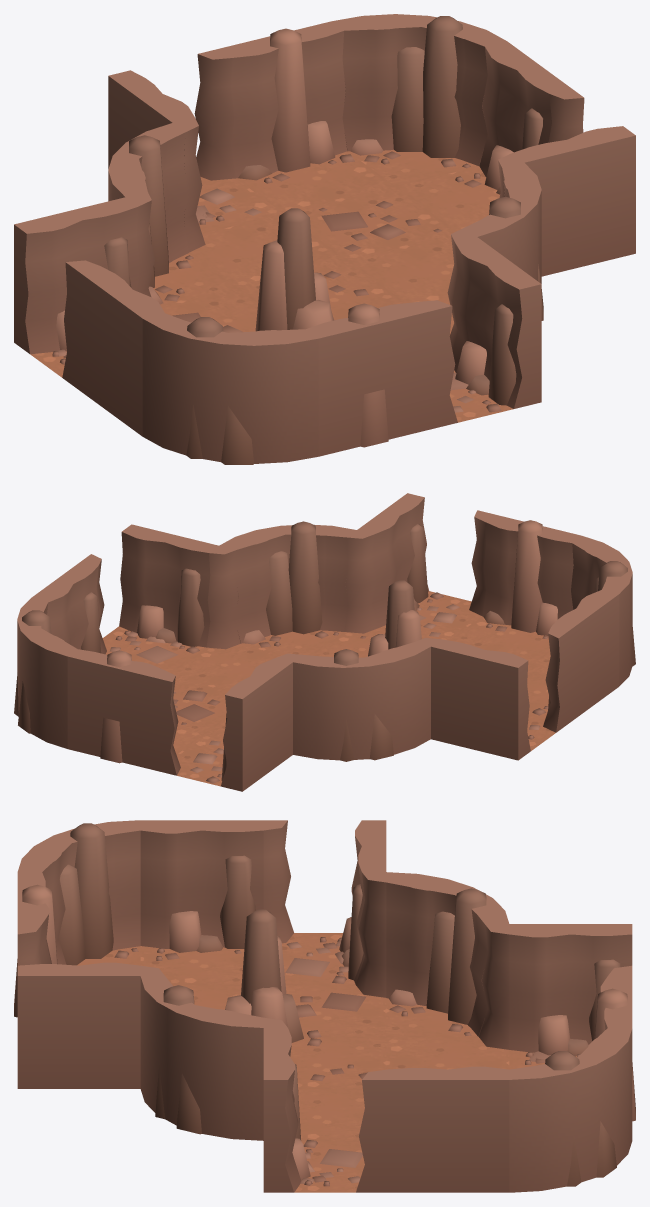
File: room-large-variation.obj
3 renders of one model, top to bottom at view 1: azimuth 30°, elevation 25°; view 2: azimuth 150°, elevation 25°; view 3: azimuth 270°, elevation 25°, orthographic. The views are drawn at different scales.
Visible parts, largest first — view 1: room-large-variation; view 2: room-large-variation; view 3: room-large-variation.
Part boxes in pixels (bbox=[...]): room-large-variation: bbox=[14, 14, 635, 464]; room-large-variation: bbox=[14, 493, 635, 791]; room-large-variation: bbox=[14, 820, 635, 1192].
Size of the model in its own units: 20 by 4.4 by 20.23.
Materials: 1 (1 with a texture image).
